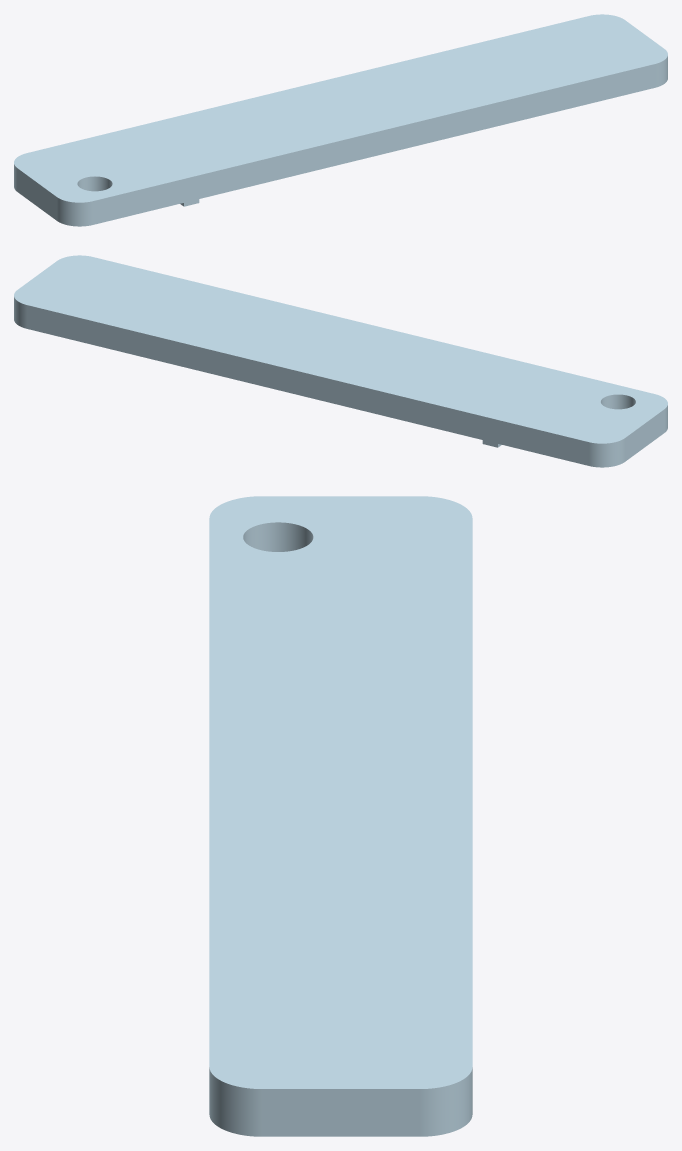
Rendered from keychain.glb.
The picture shows the model from 3 angles, top to bottom: view 1: azimuth 30°, elevation 25°; view 2: azimuth 150°, elevation 25°; view 3: azimuth 270°, elevation 25°; orthographic projection. The views are drawn at different scales.
Parts seen in each view (by area): view 1: Part 1; view 2: Part 1; view 3: Part 1.
Part boxes in pixels (x1,y1,x2,y2): Part 1: [14, 14, 667, 226]; Part 1: [14, 255, 667, 467]; Part 1: [209, 496, 472, 1136].
Size of the model in its own units: 0.08 by 0.004 by 0.015.
